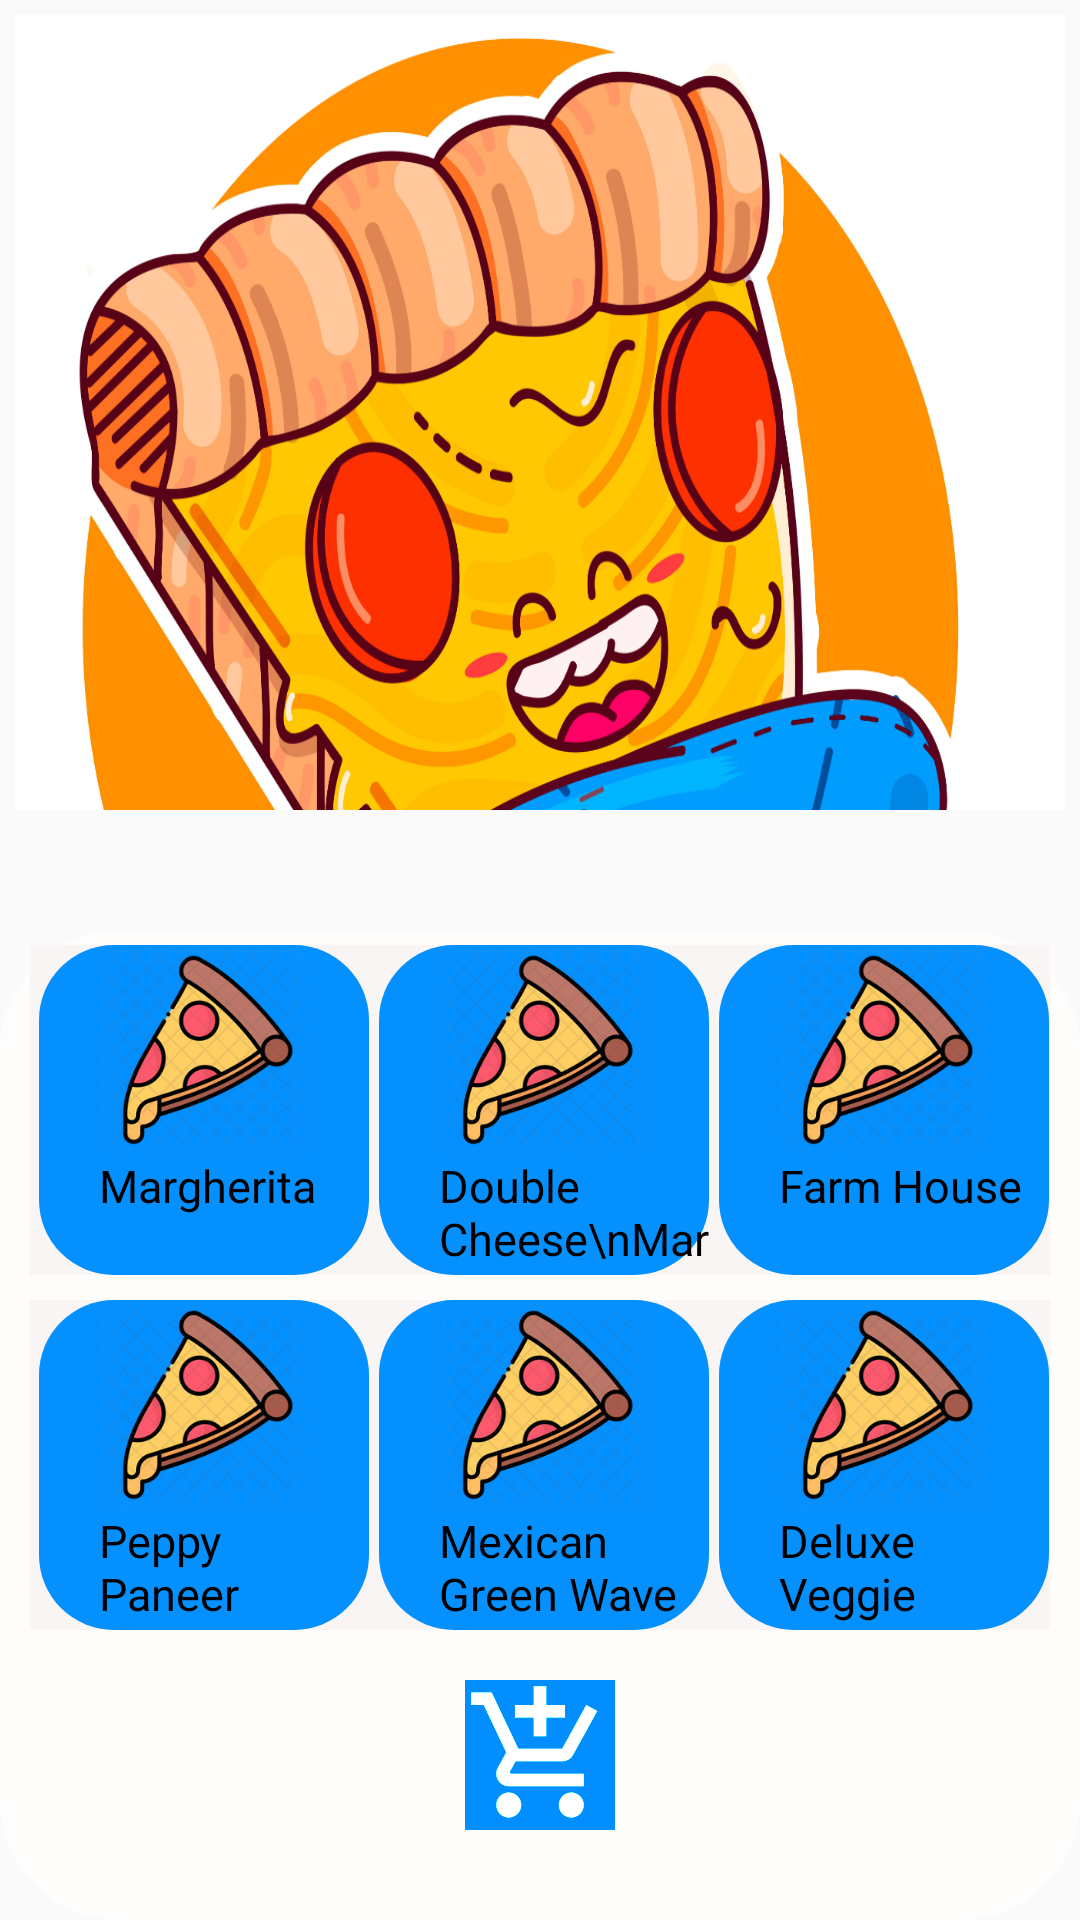

Locate icon controls on the screen. Image size 1080×1920, boxes as (x1, y1, x2, y2).
add cart: (465, 1680, 615, 1830)
